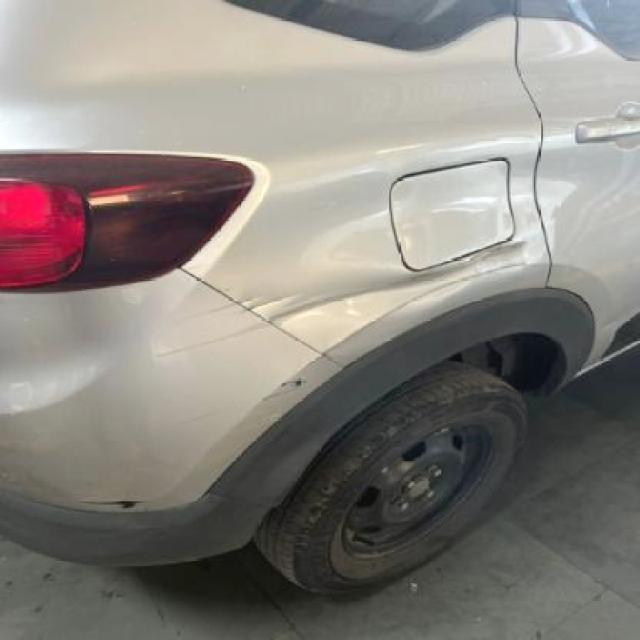minor: (86, 498, 154, 509), (211, 302, 240, 314), (286, 377, 303, 389)
moderate: (237, 242, 544, 337)
